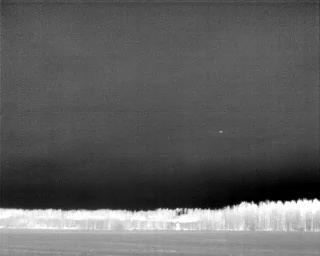AIRPLANE: (216, 127, 225, 137)
